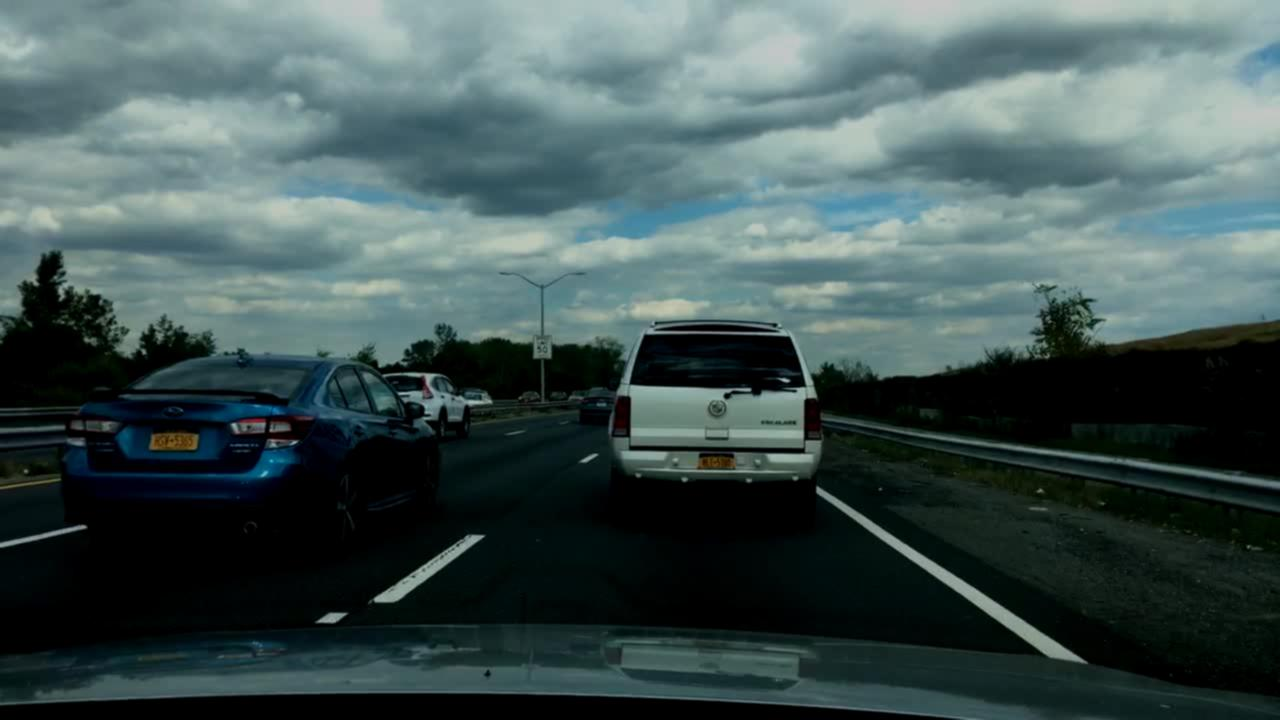cadillac: (703, 395, 732, 423)
subaru: (157, 400, 187, 419)
